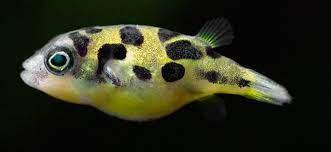Green Spotted Puffer: (22, 23, 292, 120)
